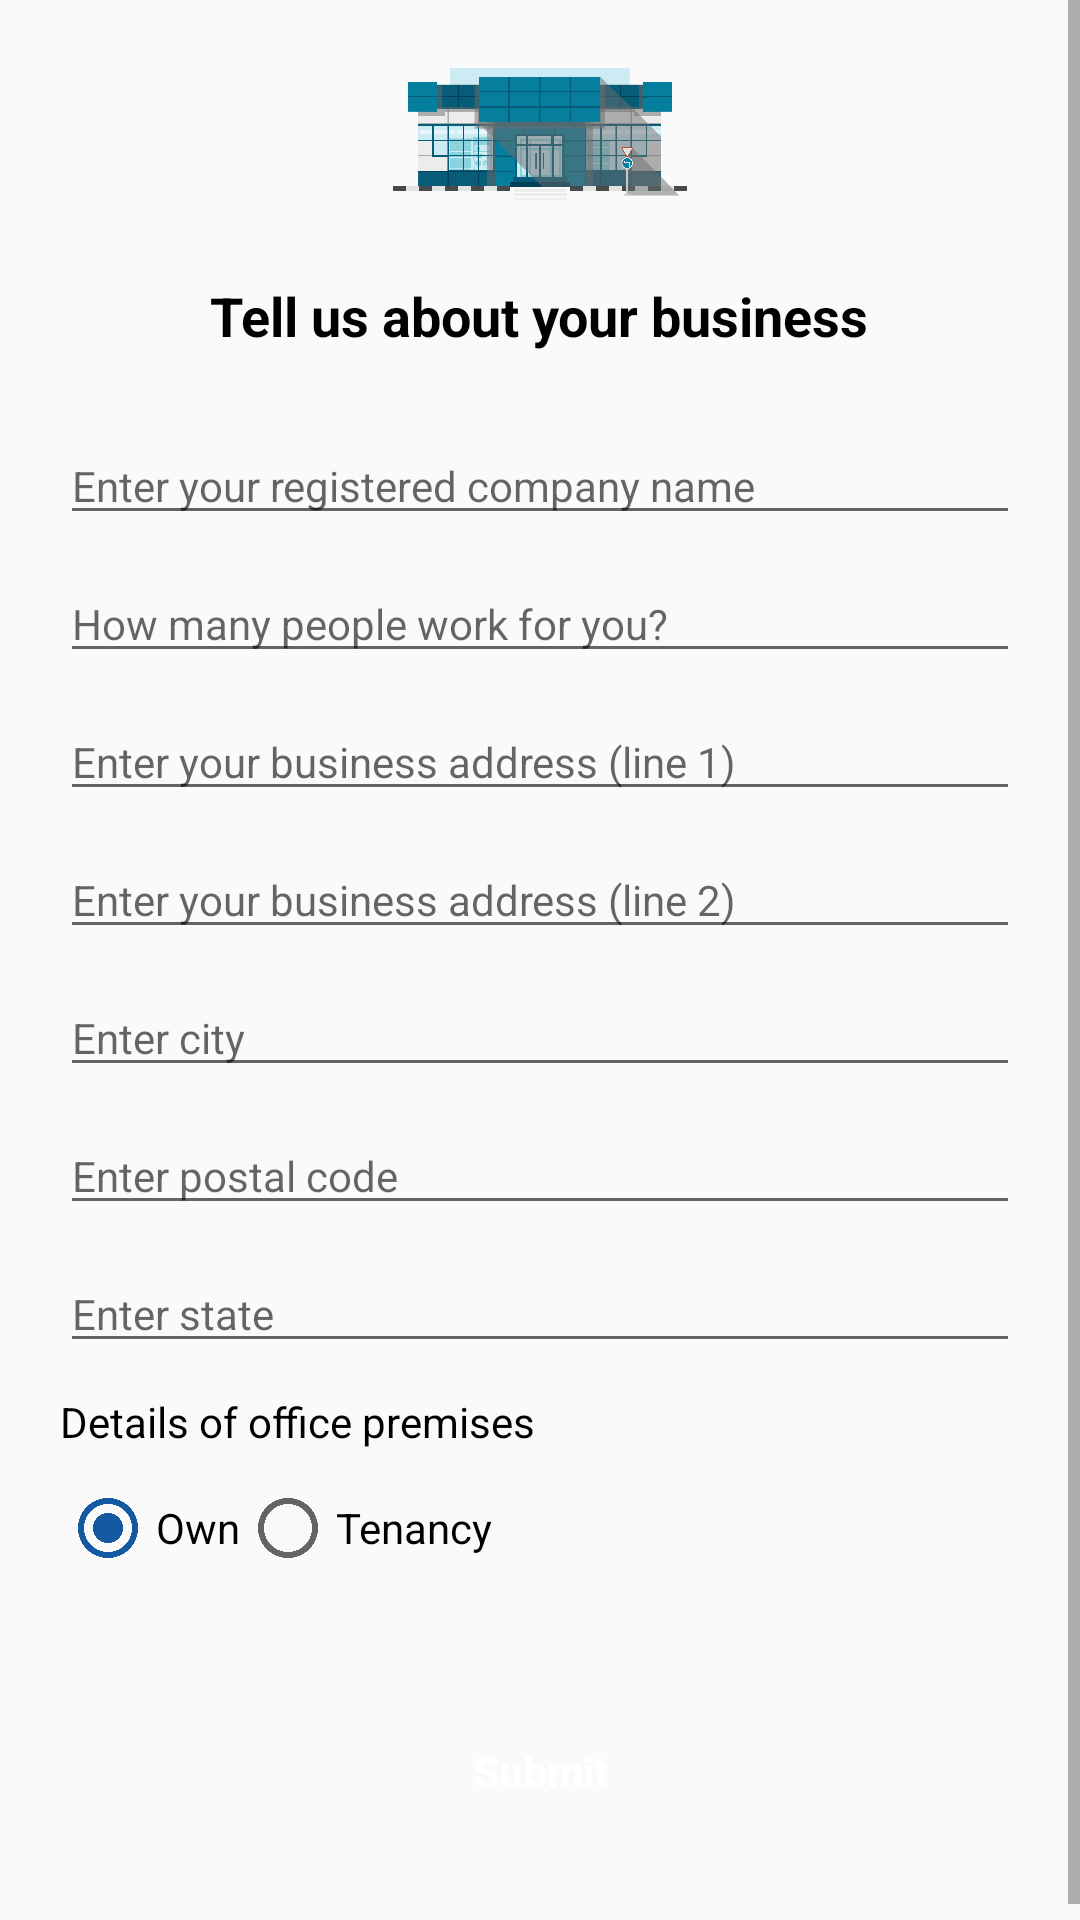

Named icons in this screenshot (1080x1920) and their centers, (x,y):
company: (540,132)
